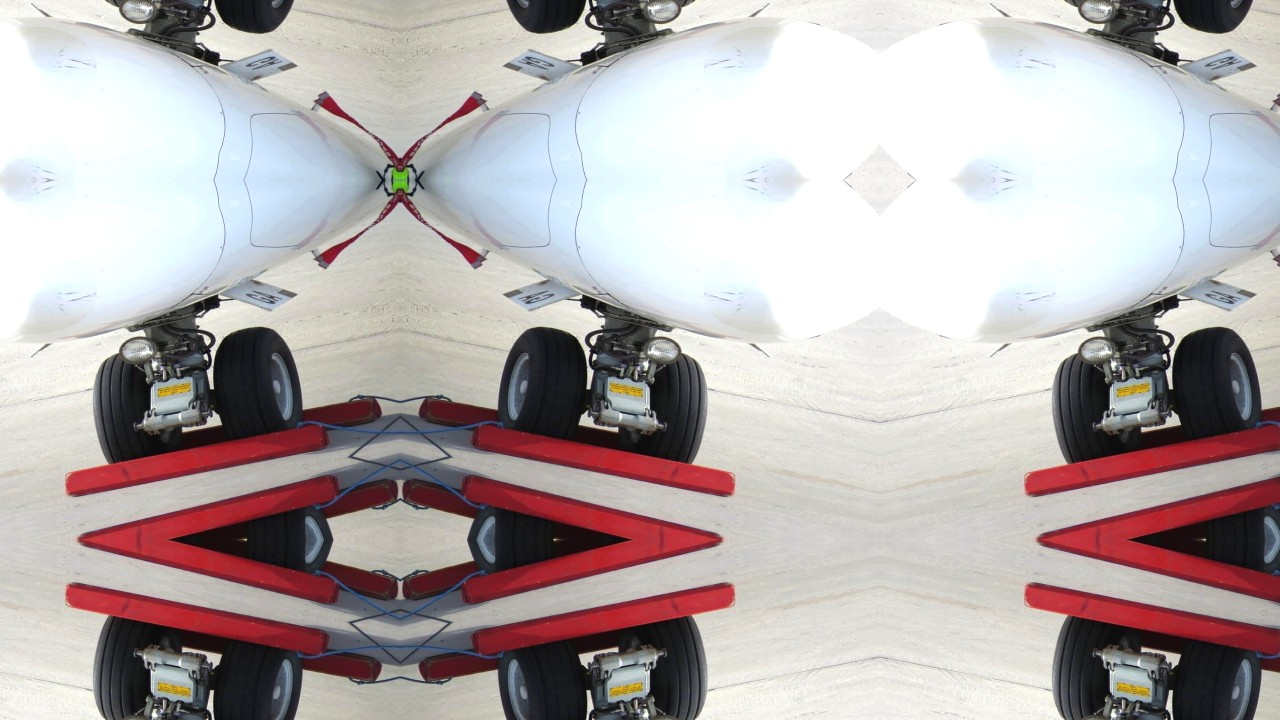chock: (58, 413, 333, 505), (467, 413, 742, 505), (58, 575, 333, 667), (467, 575, 742, 667), (1018, 413, 1280, 505), (1018, 575, 1280, 667), (71, 473, 346, 540), (454, 473, 729, 540), (71, 540, 346, 607), (454, 540, 729, 607), (158, 387, 384, 467), (416, 387, 642, 467), (158, 613, 384, 693), (416, 613, 642, 693), (1031, 473, 1280, 540), (1031, 540, 1280, 607), (178, 477, 400, 540), (400, 477, 622, 540), (178, 540, 400, 603), (400, 540, 622, 603), (1118, 387, 1280, 467), (1118, 613, 1280, 693), (1138, 477, 1280, 540), (1138, 540, 1280, 603)
wheel: (201, 319, 309, 445), (491, 319, 599, 445), (1161, 319, 1269, 445), (80, 343, 181, 467), (619, 343, 720, 467), (1040, 343, 1141, 467), (80, 613, 181, 720), (619, 613, 720, 720), (1040, 613, 1141, 720), (201, 635, 309, 720), (491, 635, 599, 720), (1161, 635, 1269, 720), (201, 0, 309, 41), (491, 0, 599, 41), (1161, 0, 1269, 41), (240, 502, 349, 540), (451, 502, 560, 540), (240, 540, 349, 578), (451, 540, 560, 578), (1200, 502, 1280, 540), (1200, 540, 1280, 578), (80, 0, 181, 17), (619, 0, 720, 17), (1040, 0, 1141, 17)
